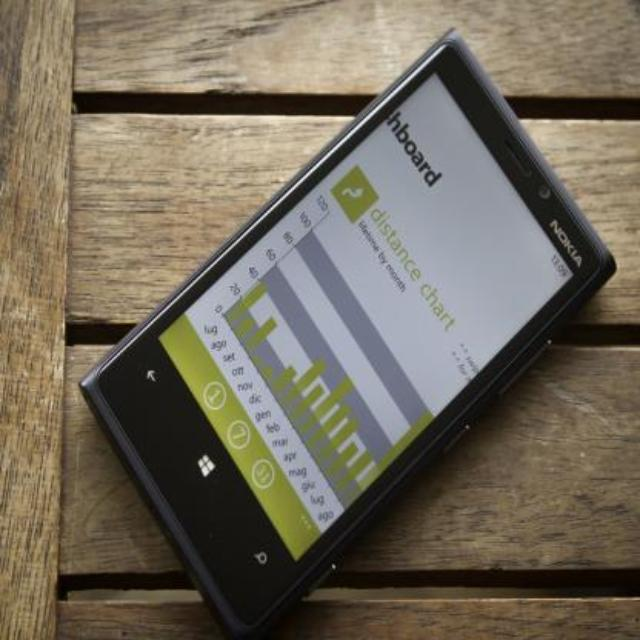Smartphone: (84, 16, 610, 630)
